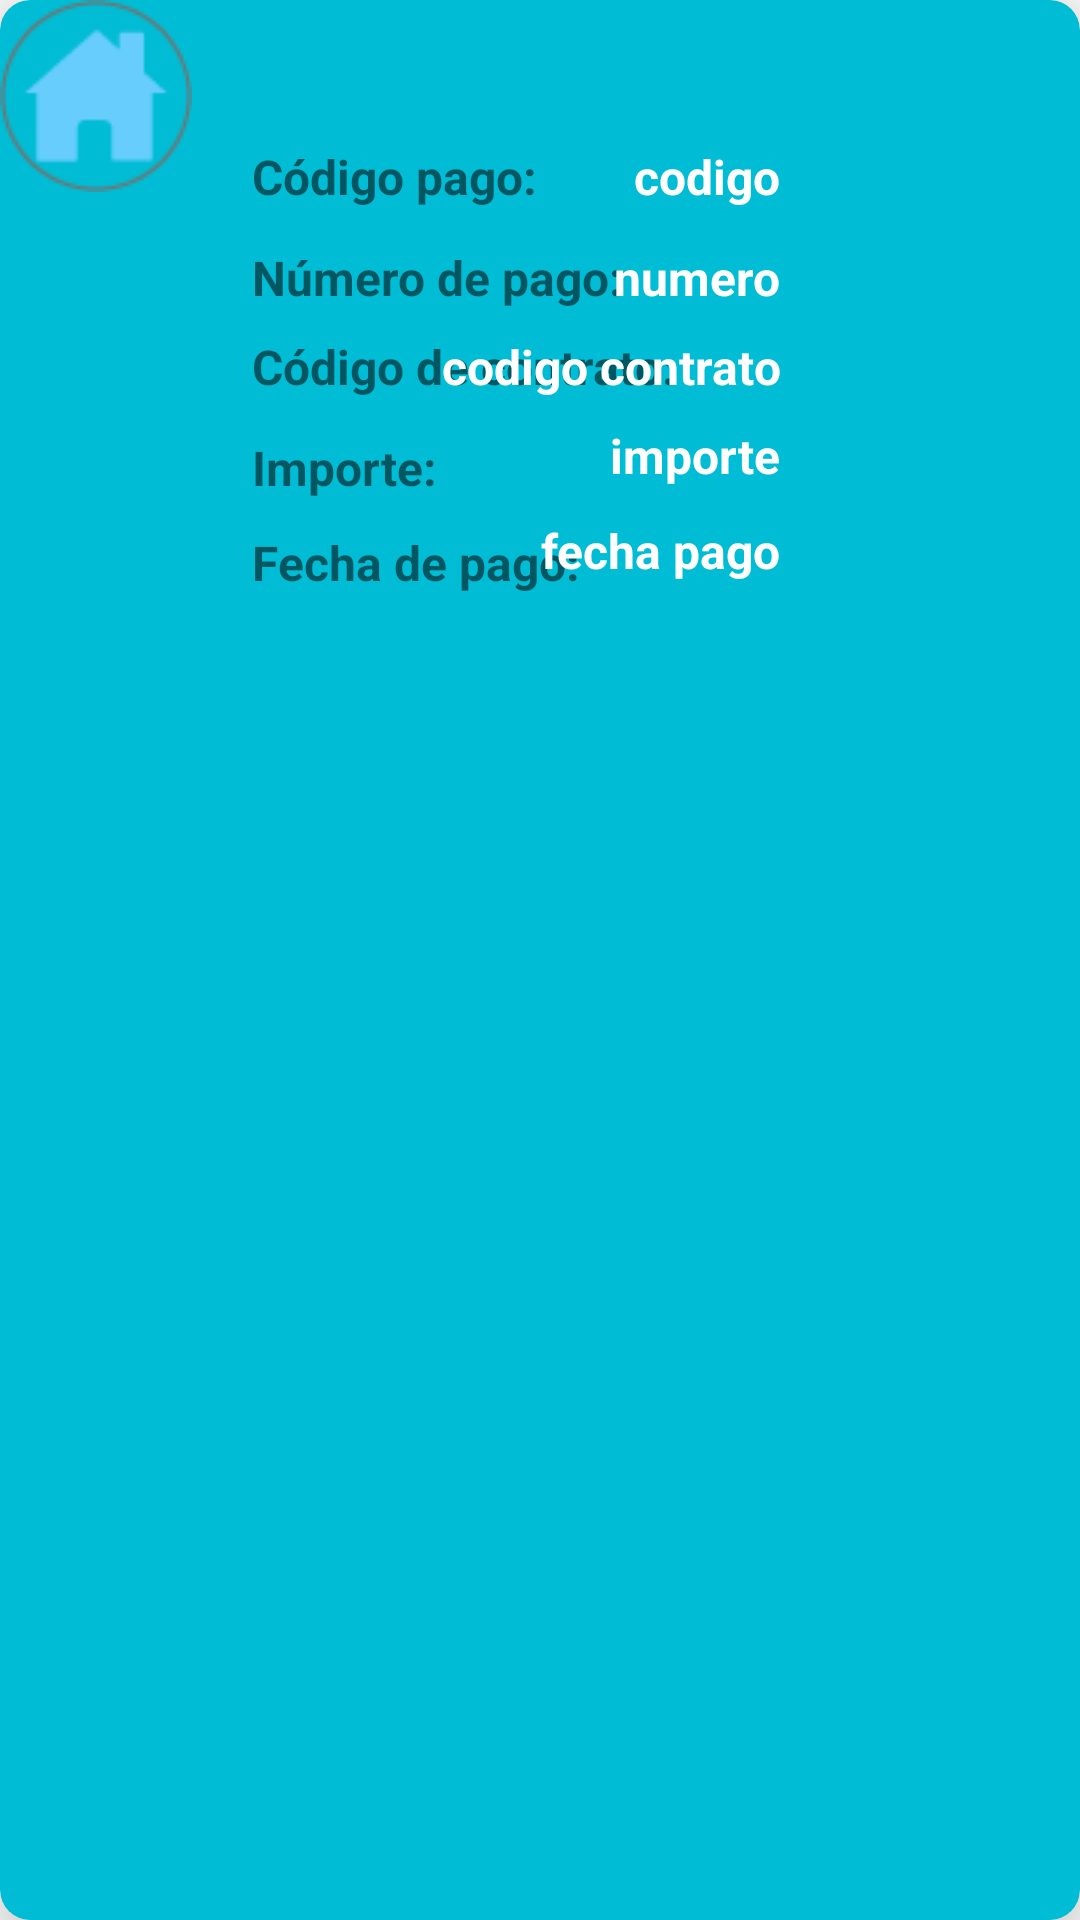

Screen size 1080px x 1920px. Icon name, then its center in pixels as point (x, y):
inmuebles: point (96, 96)
